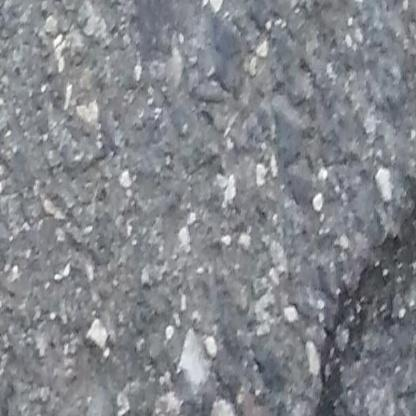Cracks: (312, 160, 416, 416)
